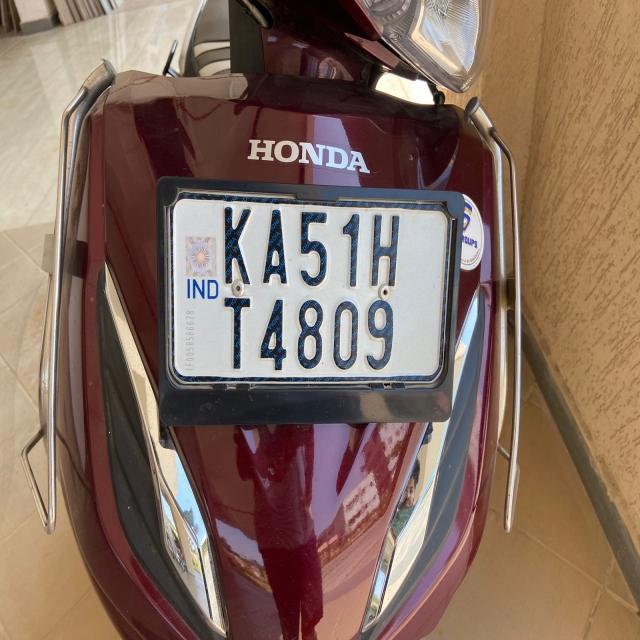0: (330, 292, 362, 375)
1: (335, 207, 367, 290)
4: (258, 292, 290, 378)
5: (297, 203, 333, 289)
8: (294, 292, 326, 376)
9: (366, 292, 399, 372)
A: (258, 202, 290, 288)
H: (368, 210, 400, 294)
K: (217, 192, 253, 287)
T: (216, 286, 257, 372)
